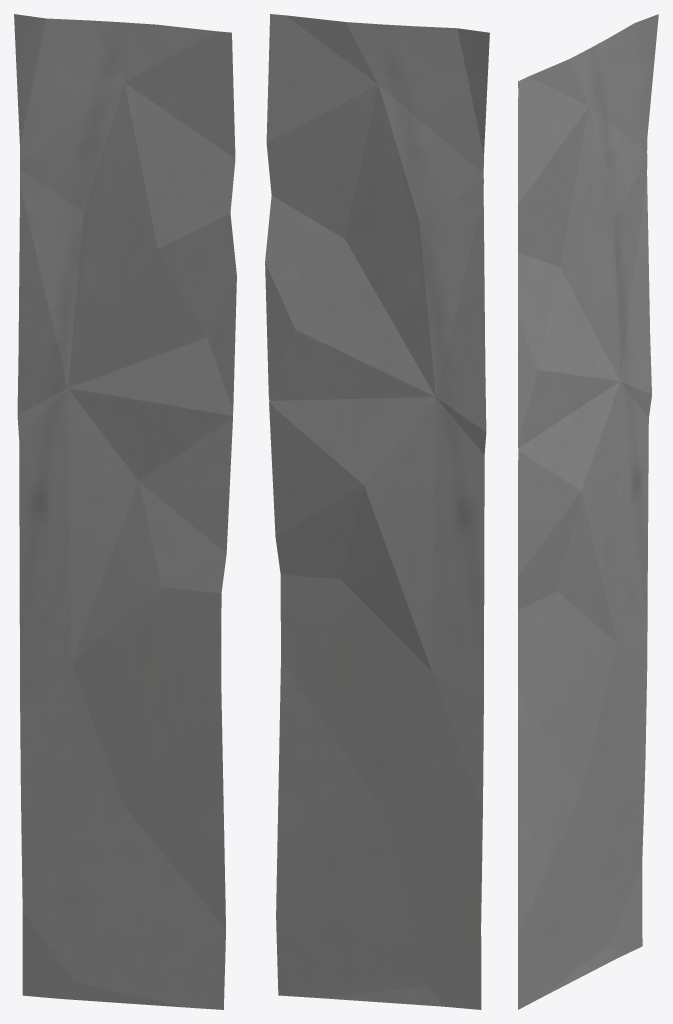
The picture shows the model from 3 angles, left to right: view 1: azimuth 30°, elevation 25°; view 2: azimuth 210°, elevation 25°; view 3: azimuth 270°, elevation 25°; orthographic projection. The views are drawn at different scales.
Size of the model in its own units: 0.1342 by 0.8374 by 0.1145.
Materials: 1 (1 with a texture image).
